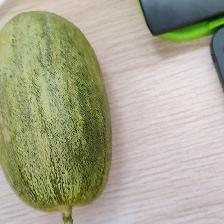gua: (5, 13, 117, 220)
